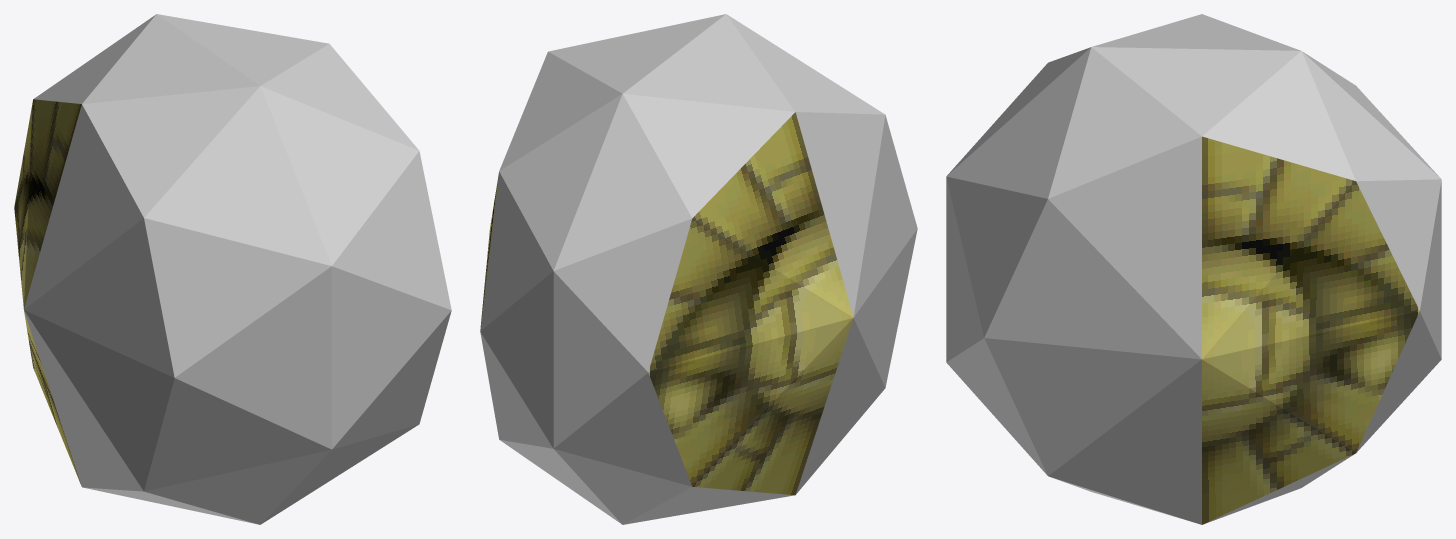
The model's file is BR_Sandshrew-Shiny01.obj.
3 renders of one model, left to right at view 1: azimuth 30°, elevation 25°; view 2: azimuth 150°, elevation 25°; view 3: azimuth 270°, elevation 25°, orthographic.
Visible parts, largest first — view 1: sand_c; view 2: sand_c; view 3: sand_c.
Part boxes in pixels (x1=…): sand_c: x1=14, y1=14, x2=451, y2=524; sand_c: x1=480, y1=14, x2=917, y2=524; sand_c: x1=946, y1=14, x2=1441, y2=524.
Bounding box in the file's own units: 3.56 × 4.11 × 4.14.
